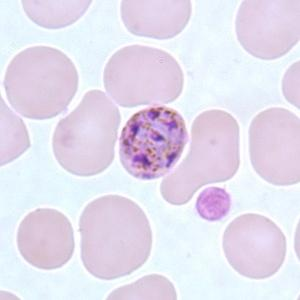Infected: (118, 104, 189, 179)
Uninfected: (162, 105, 240, 204), (77, 193, 155, 277), (51, 88, 117, 178), (102, 44, 182, 109), (4, 45, 76, 117), (223, 212, 286, 282), (248, 106, 300, 185), (234, 0, 300, 59), (17, 205, 74, 269), (118, 0, 192, 39)
